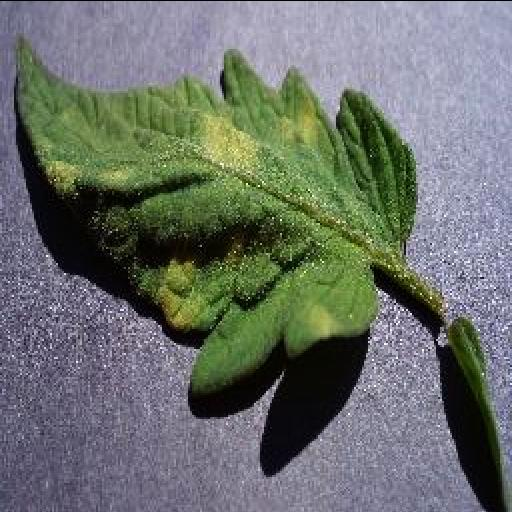disease_tomato: (10, 37, 418, 394)
